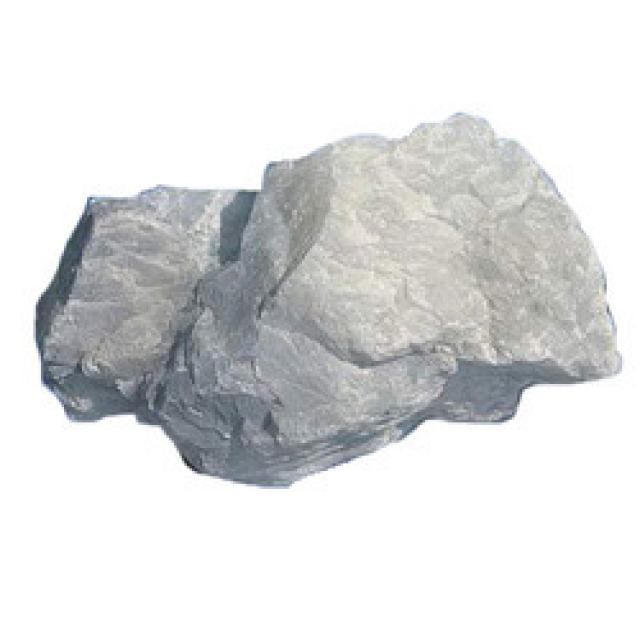Sedimentary: (20, 110, 632, 497)
